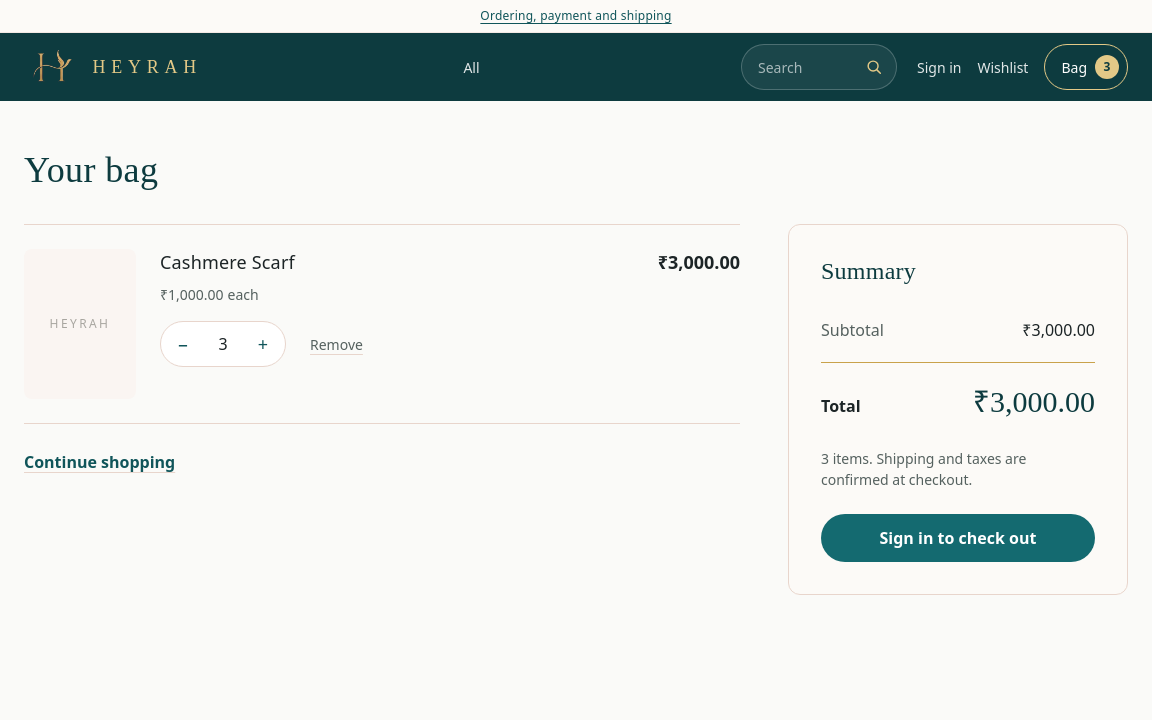
Test: cart page › surfaces a server error on the line and reconciles from the server
This screenshot has width=1152, height=720.
Click the button named "Increase quantity of Cashmere Scarf" at x=263, y=344, box [241, 322, 285, 366]
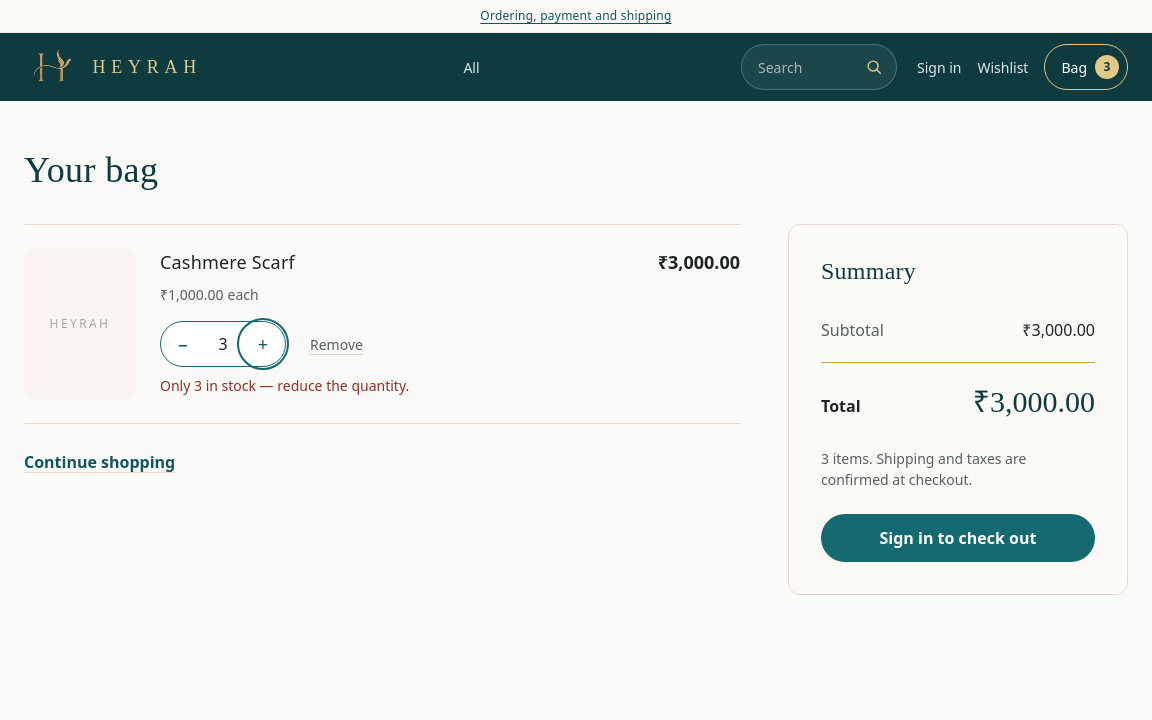
Expected: the field showing "3" is shown, [205, 322, 241, 366]
Expected: the message reads "Only 3 in stock — reduce the quantity.", [160, 376, 409, 395]
